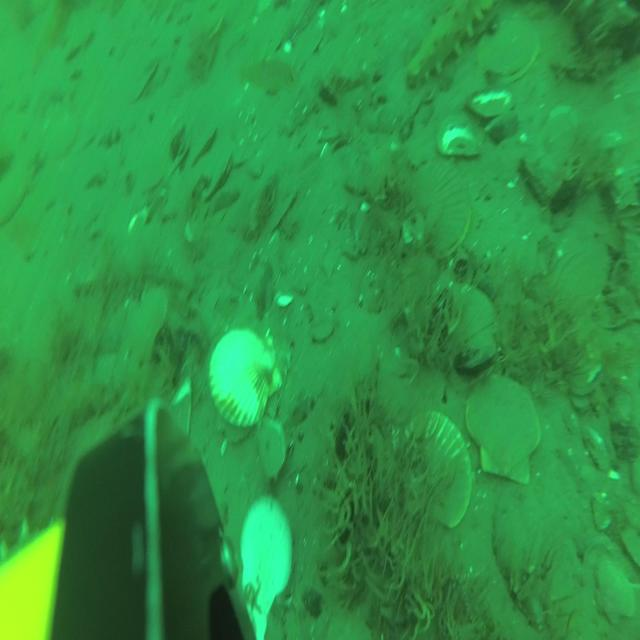holothurian: (403, 2, 506, 91)
scallop: (396, 411, 471, 533), (466, 373, 542, 485), (210, 323, 282, 435), (235, 499, 295, 618), (408, 158, 472, 262), (433, 283, 499, 373), (479, 13, 542, 92), (594, 554, 640, 628)
